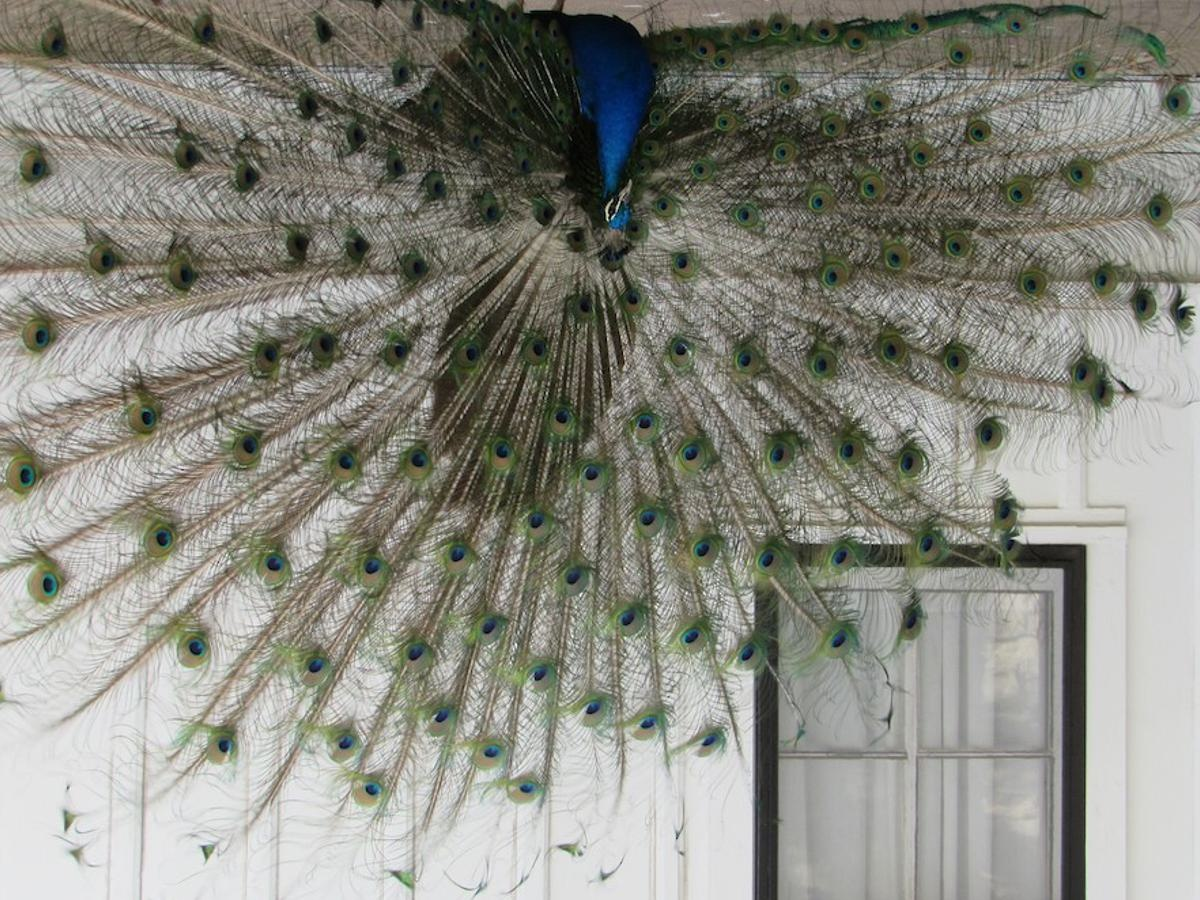peacock: (165, 1, 924, 728)
